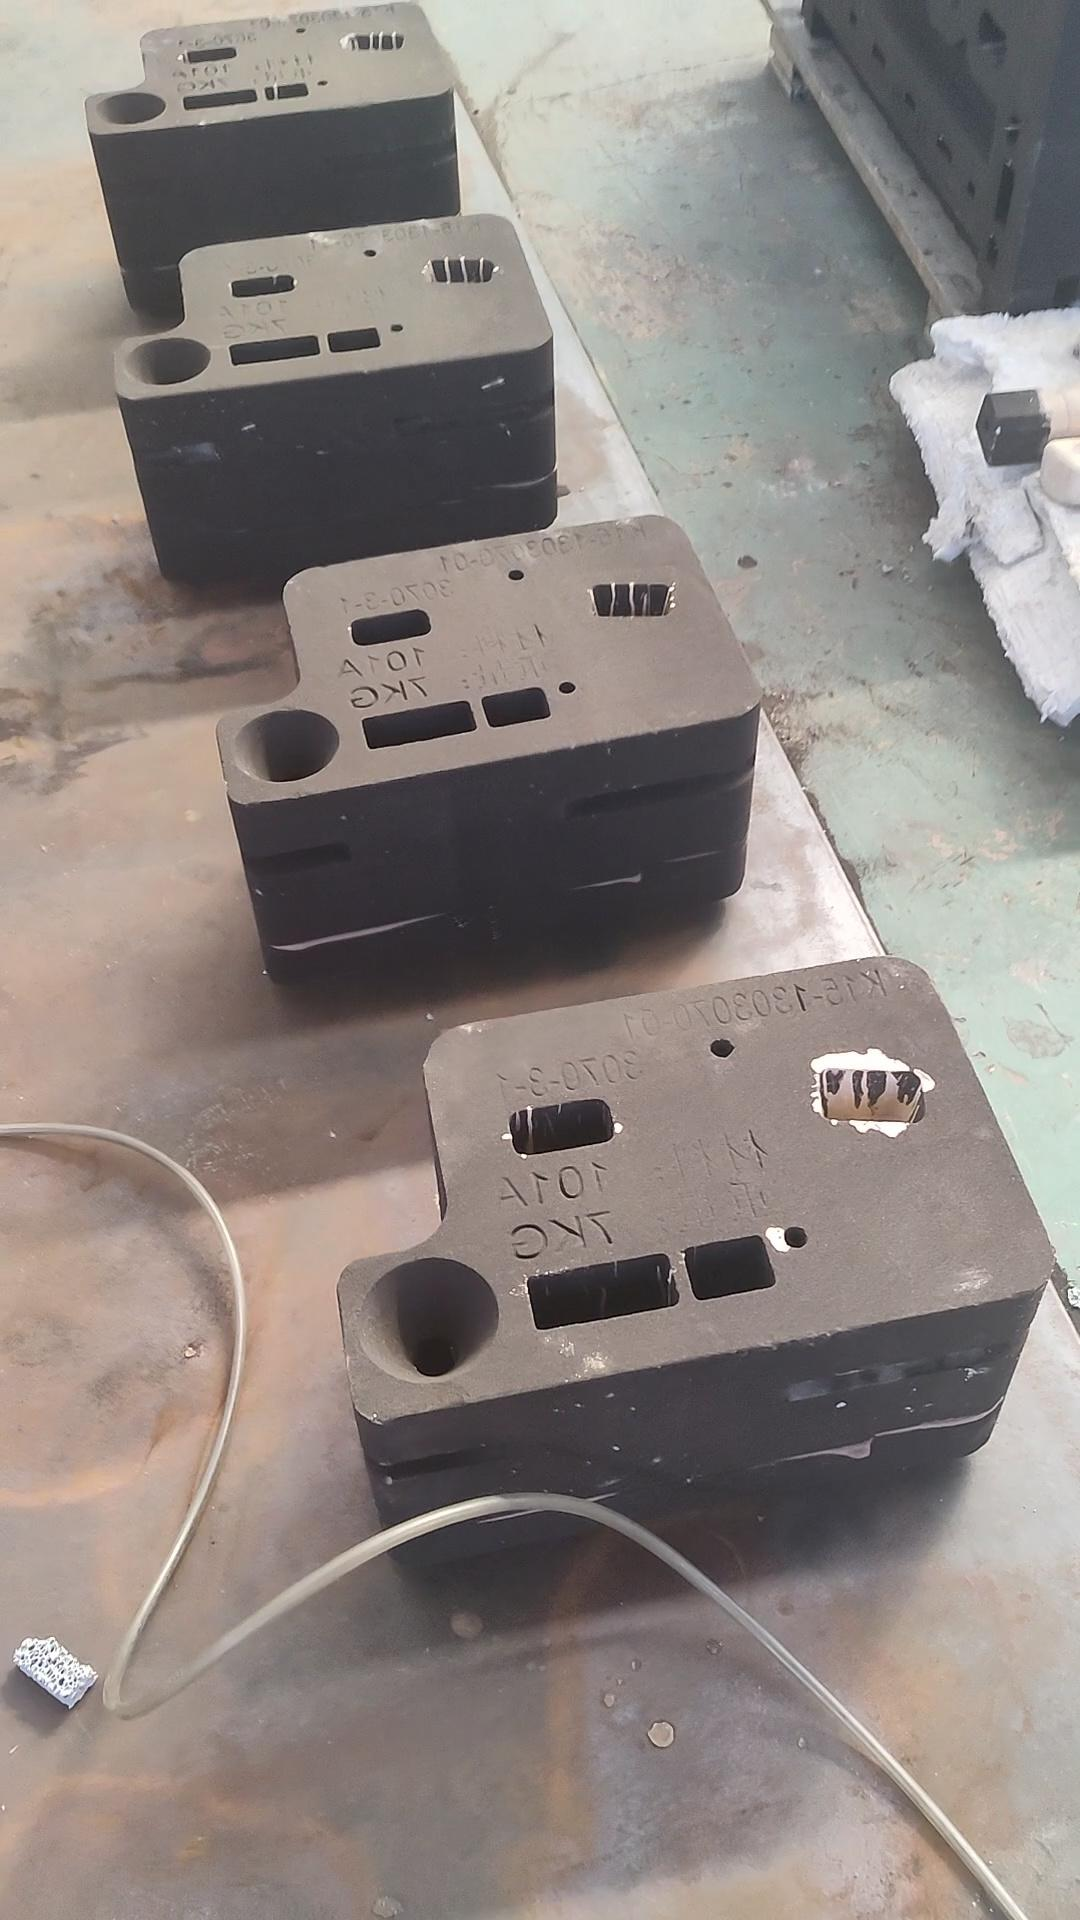pouring hole: (355, 1257, 501, 1385), (228, 708, 340, 781), (124, 334, 212, 386), (95, 91, 166, 127)
